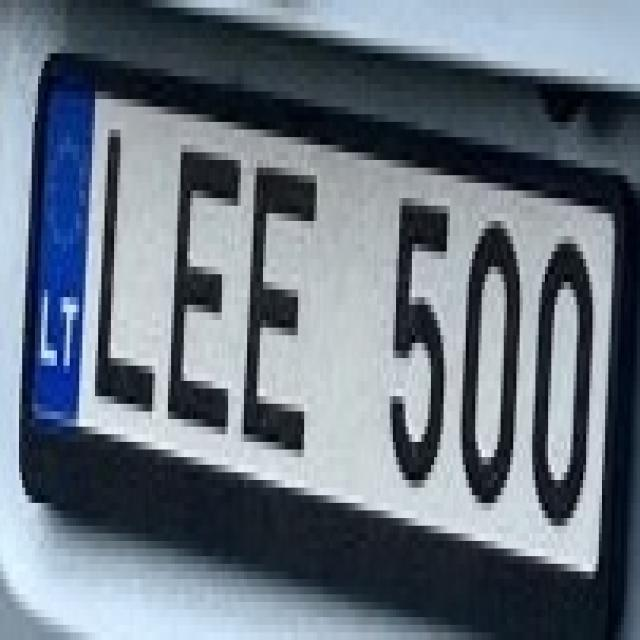0: (446, 198, 530, 503), (516, 221, 599, 518)
5: (374, 175, 456, 488)
E: (231, 137, 323, 450), (155, 122, 244, 427)
L: (79, 98, 162, 412)
